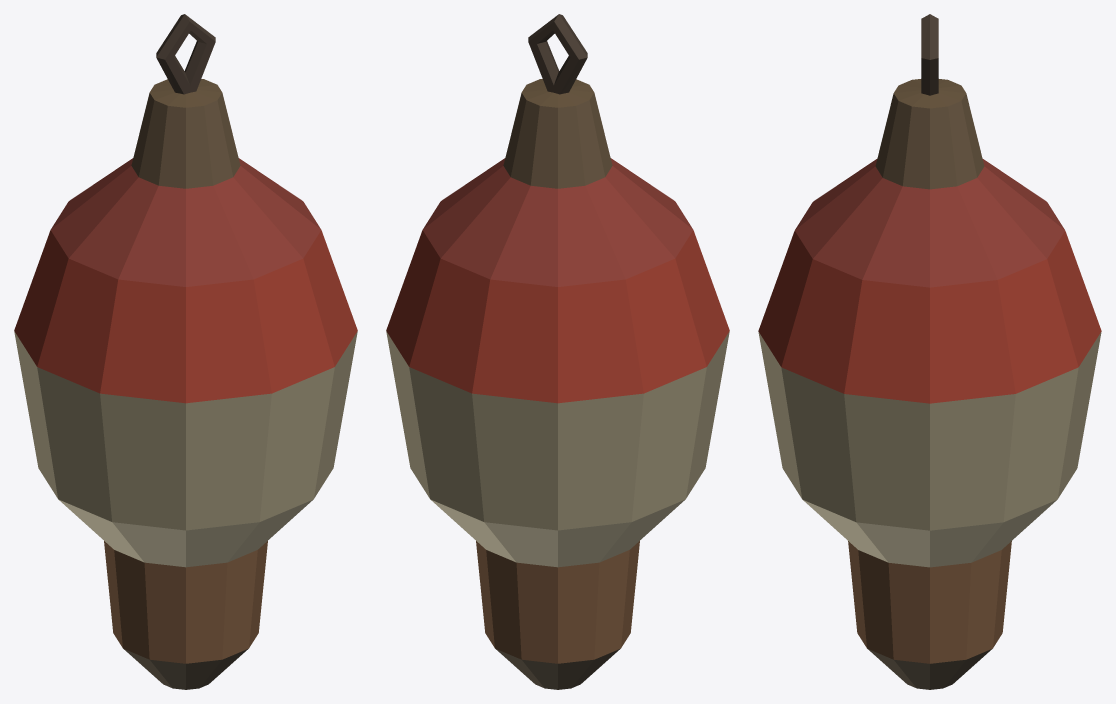
Rendered from marker_float.glb.
3 views of the same model, side by side, from view 1: azimuth 30°, elevation 25°; view 2: azimuth 150°, elevation 25°; view 3: azimuth 270°, elevation 25° (orthographic).
Visible parts, largest first — view 1: marker_float; view 2: marker_float; view 3: marker_float.
Boxes of the visible parts, x1,y1,x2,y2 form: marker_float: [14, 14, 357, 689]; marker_float: [386, 14, 729, 689]; marker_float: [758, 14, 1101, 689].
Bounding box in the file's own units: 0.17 × 0.363 × 0.17.
